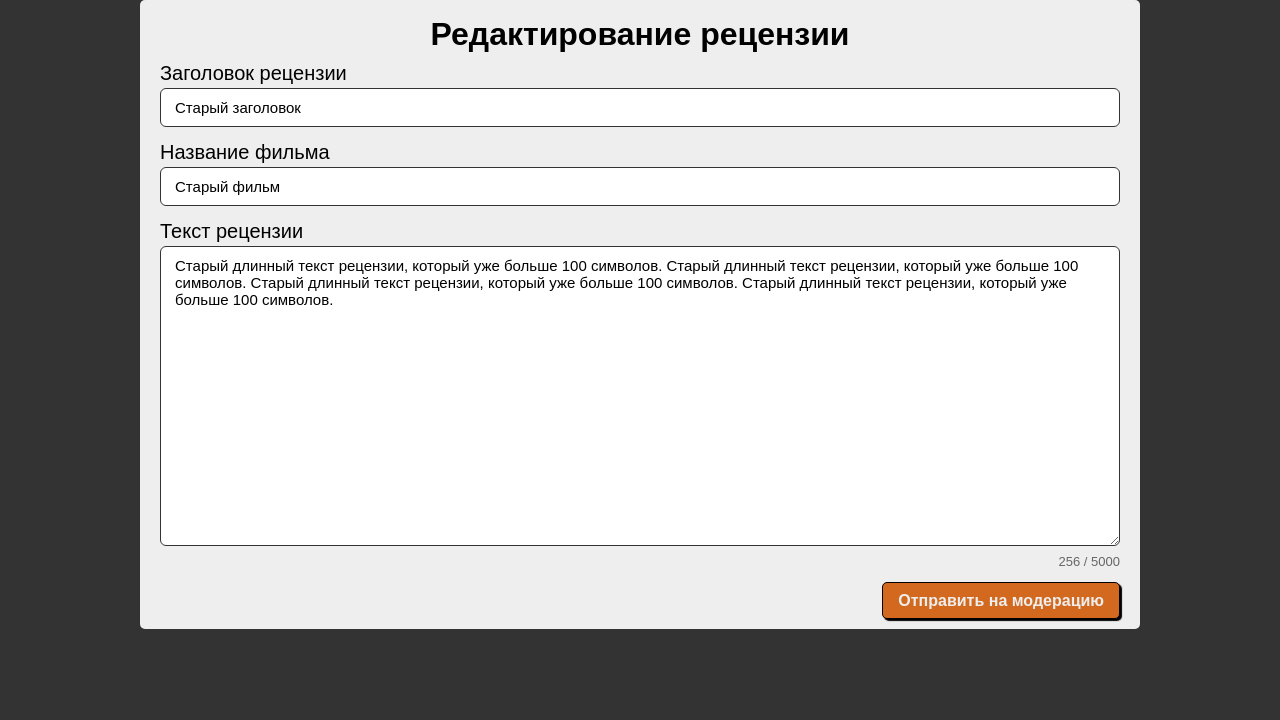
Test: EditReviewPage › показывает серверную ошибку при неудачном обновлении
Click the button "Отправить на модерацию" at [1001, 600], box x1=882 y1=582 x2=1120 y2=619
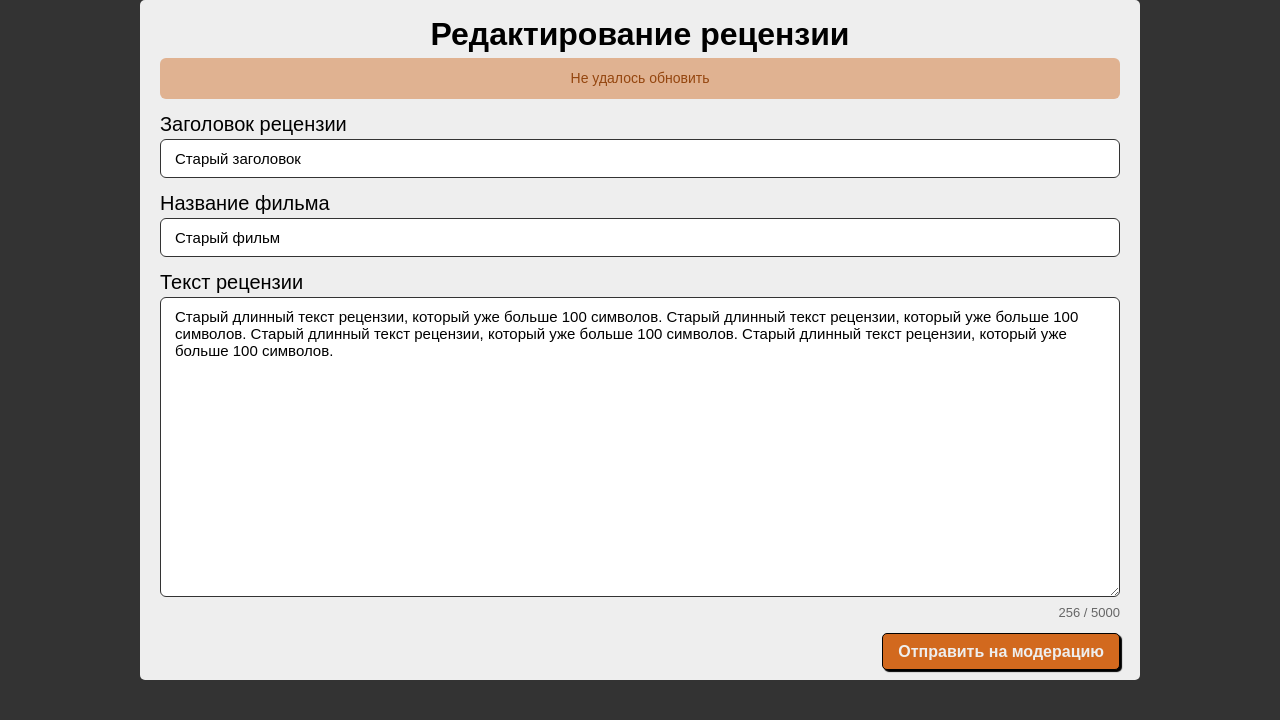
Result: the text "Не удалось обновить" is shown at x1=160 y1=58 x2=1120 y2=99
